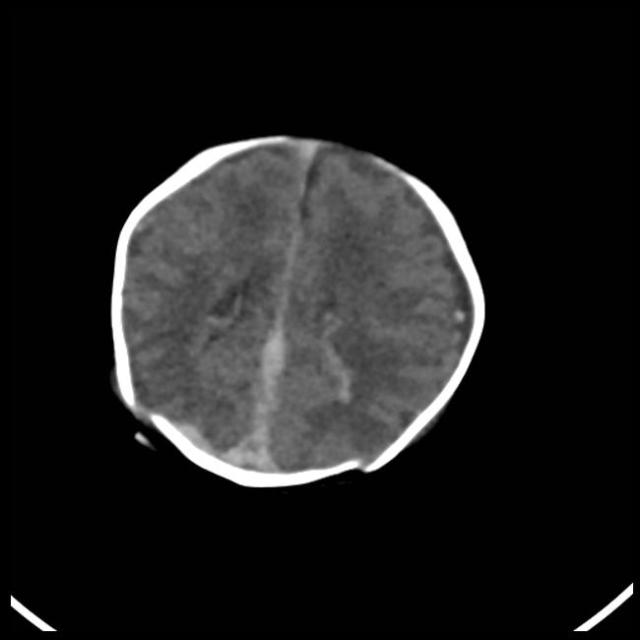lesion: (104, 128, 492, 493)
